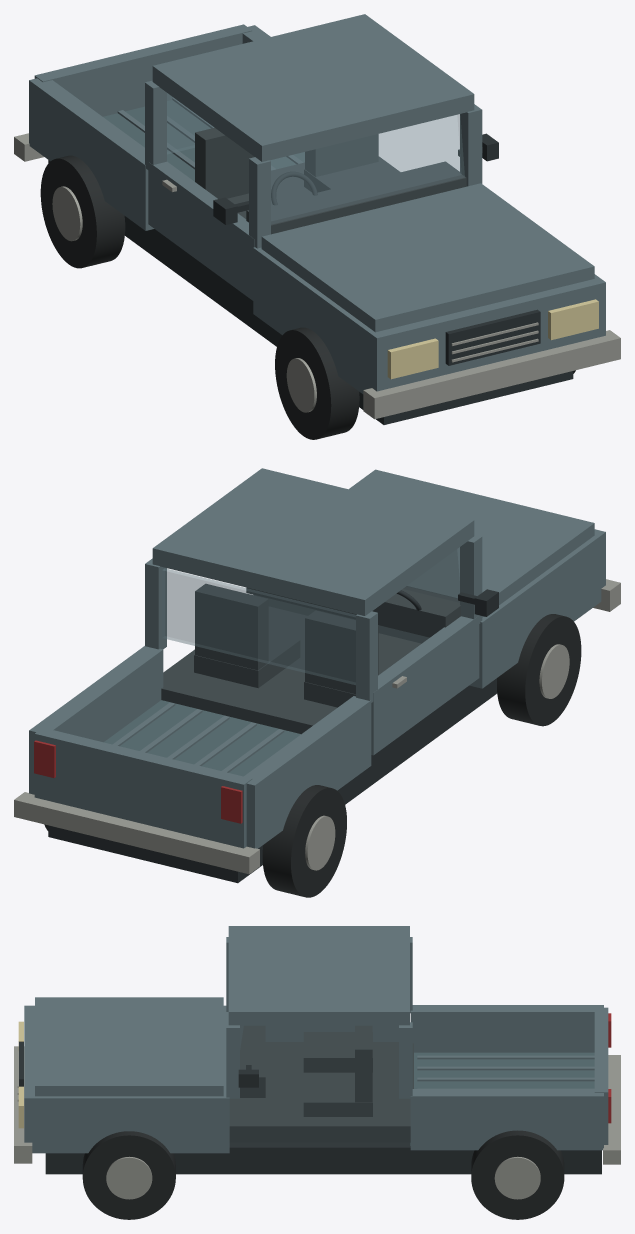
File: fathers_pickup.glb
3 views of the same model, one above another, from view 1: azimuth 30°, elevation 25°; view 2: azimuth 150°, elevation 25°; view 3: azimuth 270°, elevation 25° (orthographic). The views are drawn at different scales.
Parts seen in each view (by area): view 1: Hood, Cab roof, Engine bay, Windshield, Bed side wall, Driver door shell, Front bumper, Tailgate, Dashboard, Chassis, Rear left tire, Front left tire (+14 smaller); view 2: Cab roof, Tailgate, Rear glass, Hood, Bed side wall, Engine bay, Cab floor, Driver door shell, Bed side wall.001, Chassis, Open cargo bed floor, Rear bumper (+16 smaller); view 3: Hood, Cab roof, Engine bay, Cab floor, Bed side wall.001, Chassis, Bed side wall, Rear right tire, Front right tire, Open cargo bed floor, Bucket seat cushion.001, Bucket seat cushion (+13 smaller).
Part boxes in pixels (bbox=[...]): Hood: bbox=[261, 183, 594, 332]; Cab roof: bbox=[152, 14, 474, 161]; Engine bay: bbox=[253, 247, 605, 393]; Windshield: bbox=[270, 114, 464, 224]; Bed side wall: bbox=[29, 78, 154, 230]; Driver door shell: bbox=[148, 161, 254, 300]; Front bumper: bbox=[363, 330, 620, 419]; Tailgate: bbox=[34, 24, 252, 116]; Dashboard: bbox=[246, 161, 466, 234]; Chassis: bbox=[48, 160, 573, 424]; Rear left tire: bbox=[40, 155, 125, 268]; Front left tire: bbox=[275, 327, 359, 439]; Cab roof: bbox=[152, 468, 474, 615]; Tailgate: bbox=[34, 727, 252, 848]; Rear glass: bbox=[162, 568, 355, 684]; Hood: bbox=[349, 469, 594, 617]; Bed side wall: bbox=[244, 696, 371, 848]; Engine bay: bbox=[254, 529, 605, 688]; Cab floor: bbox=[161, 606, 421, 734]; Driver door shell: bbox=[371, 615, 479, 755]; Bed side wall.001: bbox=[29, 646, 163, 794]; Chassis: bbox=[48, 678, 497, 883]; Open cargo bed floor: bbox=[104, 700, 300, 776]; Rear bumper: bbox=[14, 792, 259, 874]; Hood: bbox=[35, 997, 223, 1096]; Cab roof: bbox=[228, 926, 409, 1025]; Engine bay: bbox=[24, 1005, 229, 1153]; Cab floor: bbox=[229, 1042, 413, 1142]; Bed side wall.001: bbox=[410, 1089, 603, 1150]; Chassis: bbox=[45, 1142, 601, 1174]; Bed side wall: bbox=[410, 1005, 603, 1052]; Rear right tire: bbox=[471, 1130, 564, 1219]; Front right tire: bbox=[82, 1131, 175, 1219]; Open cargo bed floor: bbox=[410, 1052, 594, 1145]; Bucket seat cushion.001: bbox=[303, 1076, 372, 1116]; Bucket seat cushion: bbox=[303, 1032, 372, 1072].
Size of the model in its own units: 2.21 by 1.86 by 5.12.
